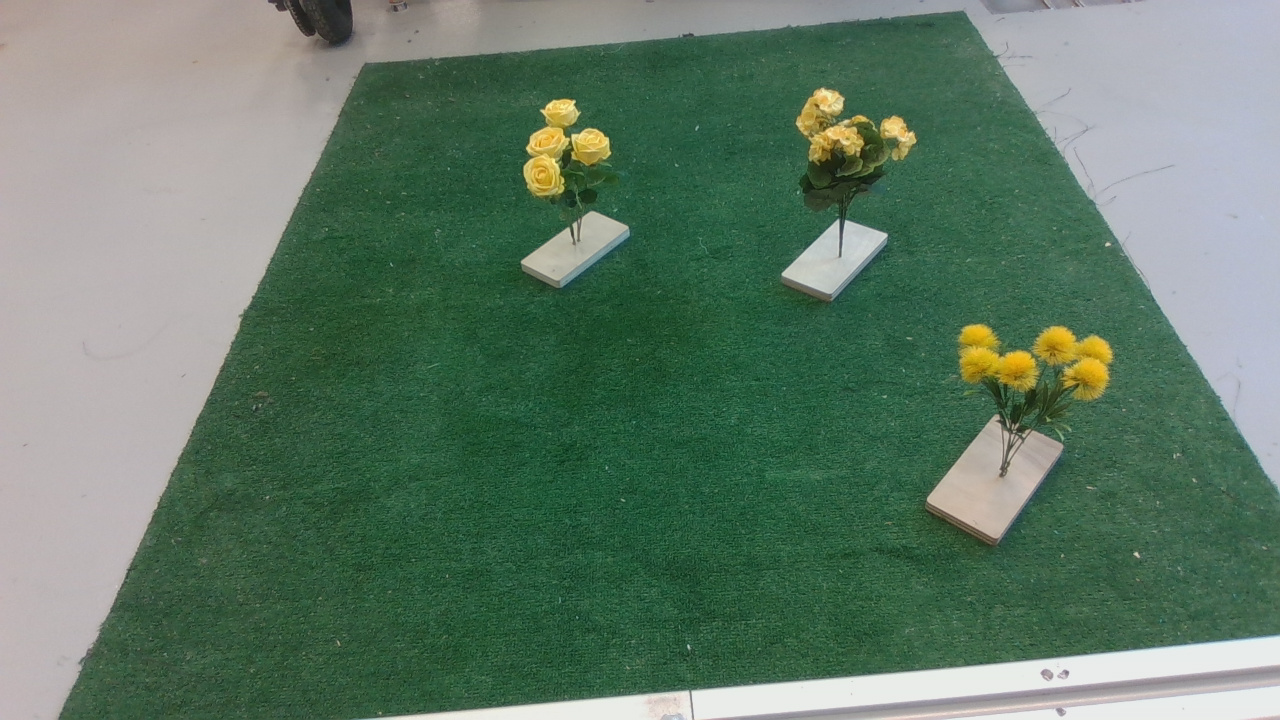dandelion: (946, 310, 1127, 435)
geranium: (788, 87, 931, 217)
rose: (520, 97, 636, 220)
